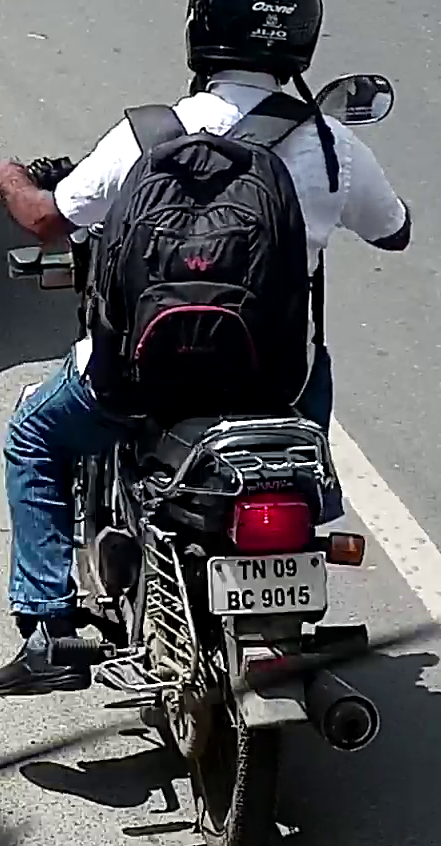0: (274, 587, 286, 607), (273, 558, 285, 577)
1: (287, 585, 296, 606)
5: (298, 584, 310, 605)
9: (285, 557, 297, 576), (262, 588, 273, 608)
B: (227, 589, 240, 610)
C: (241, 587, 255, 608)
N: (252, 558, 266, 580)
P16: (206, 550, 329, 618)
T: (237, 558, 251, 580)
